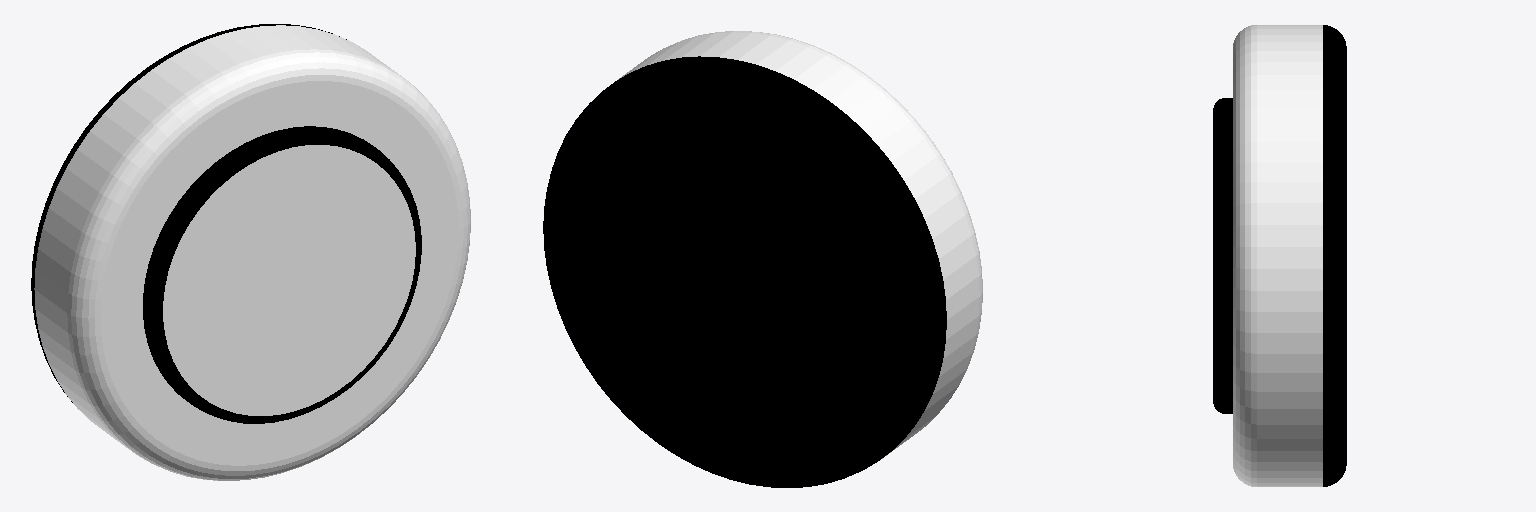
The model's file is drum_tom.obj.
3 views of the same model, side by side, from view 1: azimuth 30°, elevation 25°; view 2: azimuth 150°, elevation 25°; view 3: azimuth 270°, elevation 25° (orthographic).
Visible parts, largest first — view 1: Body1; view 2: Body1; view 3: Body1.
Boxes of the visible parts, x1=… form: Body1: x1=31, y1=24, x2=470, y2=480; Body1: x1=543, y1=31, x2=982, y2=487; Body1: x1=1213, y1=25, x2=1346, y2=486.
Size of the model in its own units: 0.95 by 0.9489 by 0.275.